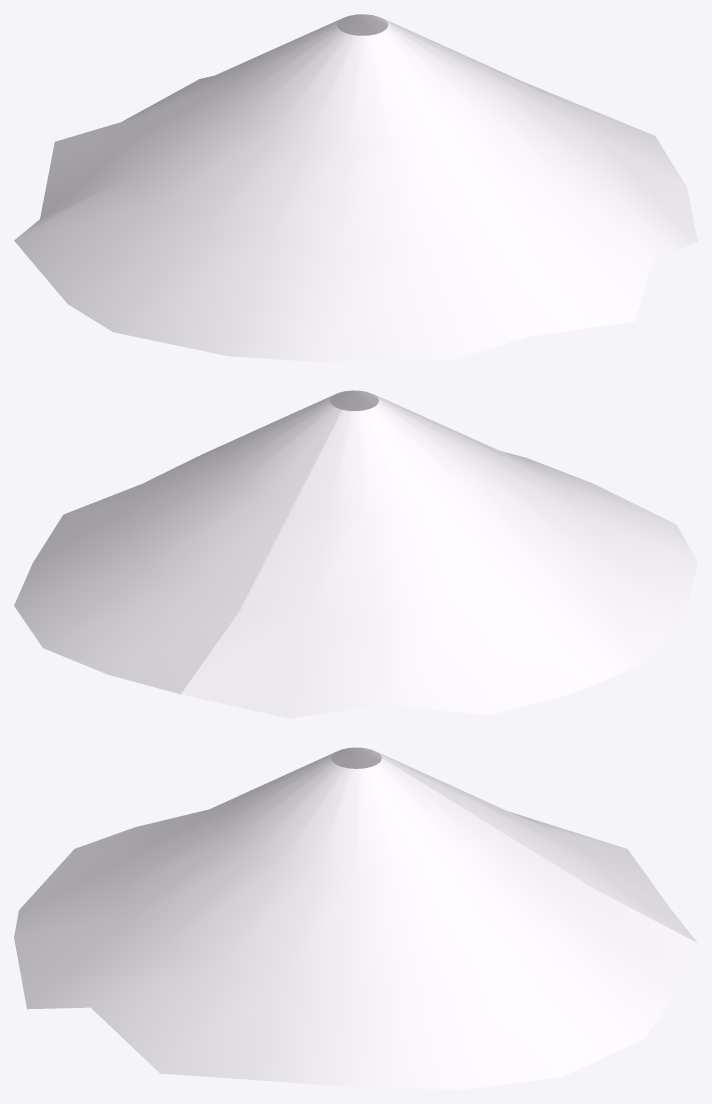
File: bm_guangmang.FBX
3 renders of one model, top to bottom at view 1: azimuth 30°, elevation 25°; view 2: azimuth 150°, elevation 25°; view 3: azimuth 270°, elevation 25°, orthographic. The views are drawn at different scales.
Parts seen in each view (by area): view 1: guangmang01; view 2: guangmang01; view 3: guangmang01.
Part boxes in pixels (x1,y1,x2,y2): guangmang01: (14, 14, 697, 361); guangmang01: (14, 390, 697, 718); guangmang01: (14, 747, 697, 1089).
Size of the model in its own units: 3037 by 993 by 3037.
1 material, 1 textured.
